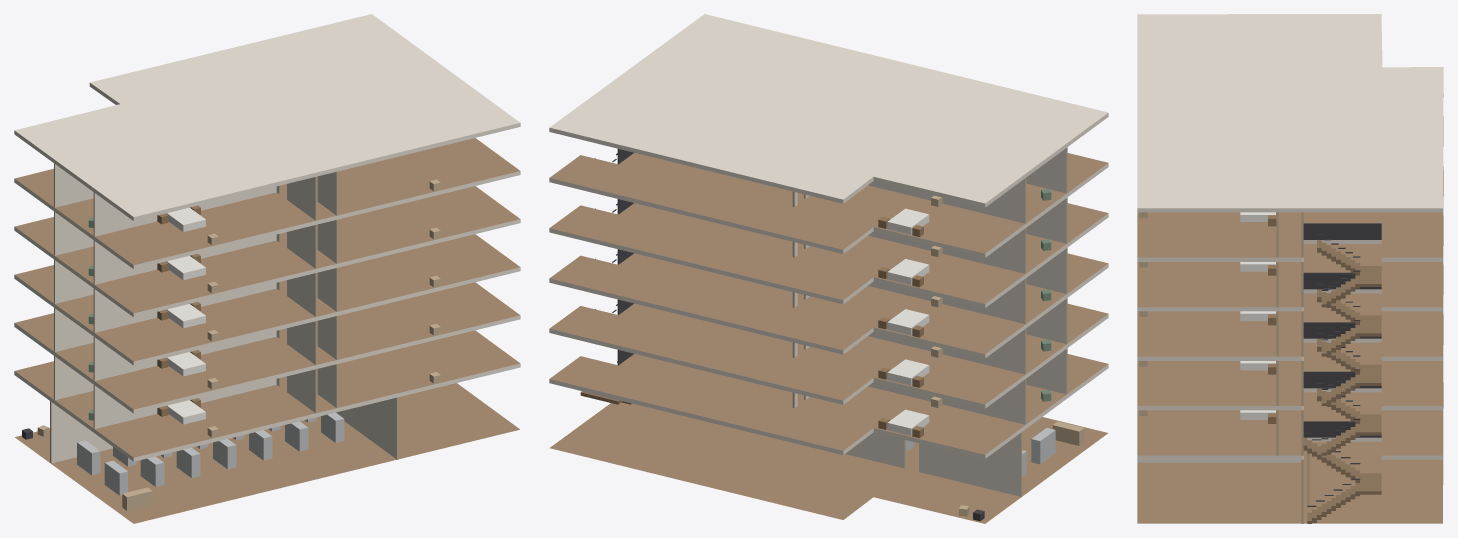
File: interior.glb
The picture shows the model from 3 angles, left to right: view 1: azimuth 30°, elevation 25°; view 2: azimuth 150°, elevation 25°; view 3: azimuth 270°, elevation 25°; orthographic projection. The views are drawn at different scales.
Parts seen in each view (by area): view 1: slabs, partitions, coarse-s0, coarse-s3, coarse-s1, coarse-s2, coarse-s4, coarse-s5; view 2: slabs, partitions, coarse-s0, coarse-s1, coarse-s2, coarse-s5, coarse-s3, coarse-s4, stair; view 3: slabs, stair, partitions, coarse-s5, coarse-s3, coarse-s1, coarse-s2, coarse-s4.
Boxes of the visible parts, <box> form: slabs: <box>14,14,520,523</box>; partitions: <box>50,163,398,463</box>; coarse-s0: <box>22,412,344,510</box>; coarse-s3: <box>88,275,440,341</box>; coarse-s1: <box>88,372,440,437</box>; coarse-s2: <box>88,324,440,389</box>; coarse-s4: <box>88,227,440,293</box>; coarse-s5: <box>88,179,440,245</box>; slabs: <box>549,14,1108,523</box>; partitions: <box>792,147,1067,496</box>; coarse-s0: <box>906,421,1084,521</box>; coarse-s1: <box>878,390,1051,438</box>; coarse-s2: <box>878,339,1051,387</box>; coarse-s5: <box>878,189,1051,236</box>; coarse-s3: <box>878,289,1051,337</box>; coarse-s4: <box>878,239,1051,287</box>; stair: <box>580,149,633,404</box>; slabs: <box>1137,14,1443,523</box>; stair: <box>1303,223,1381,523</box>; partitions: <box>1137,212,1309,523</box>; coarse-s5: <box>1139,212,1276,226</box>; coarse-s3: <box>1139,311,1276,325</box>; coarse-s1: <box>1139,410,1276,423</box>; coarse-s2: <box>1139,361,1276,374</box>; coarse-s4: <box>1139,262,1276,275</box>.
Size of the model in its own units: 25.81 by 19.56 by 17.19.
